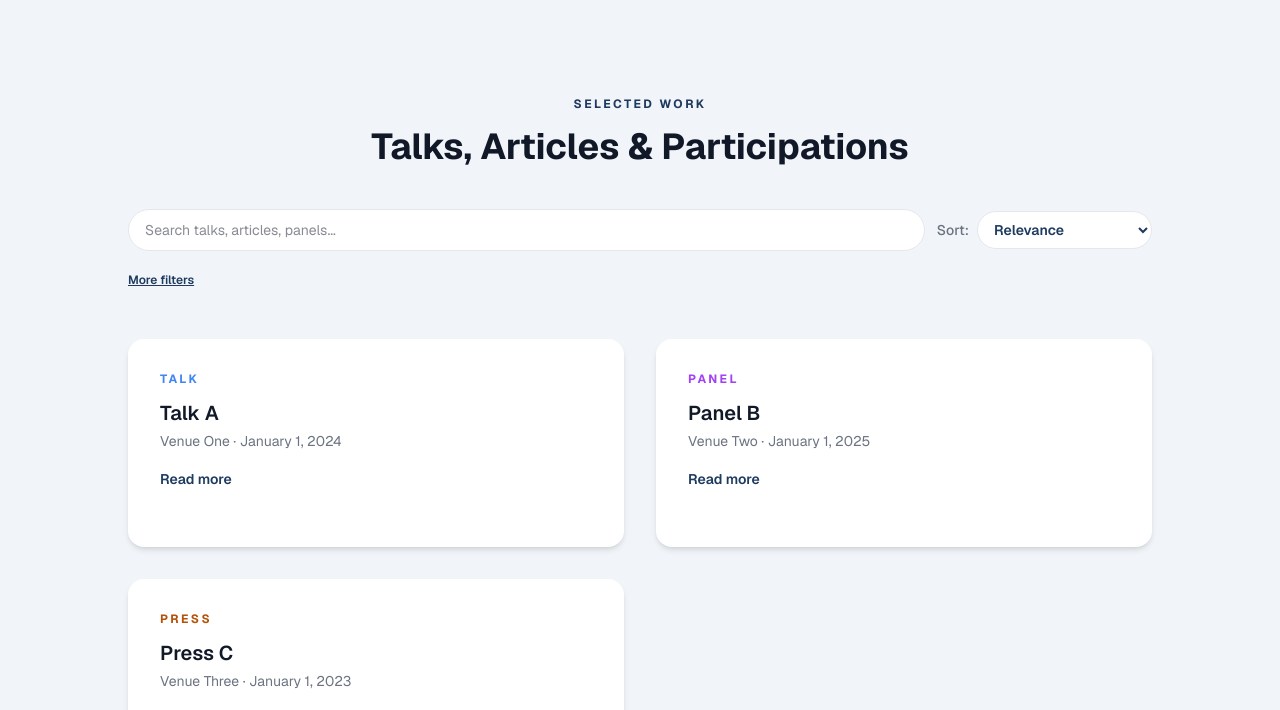
PublicationsExplorer › resets query, sort, and filters when Clear filters is clicked
Type "press" into the field with placeholder "Search talks, articles, panels...". click: (526, 230)
box: 128,209 -> 925,251
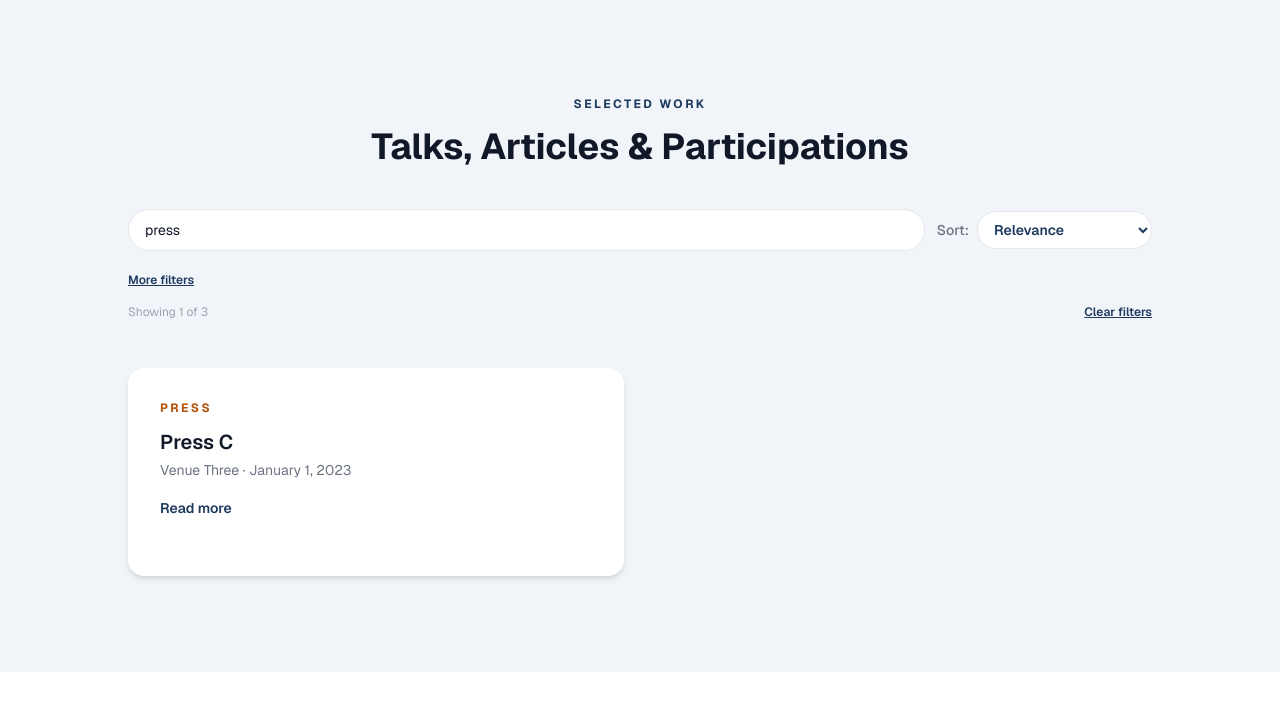
Click the button "Clear filters". click: click(1118, 312)
box: 1084,304 -> 1152,320
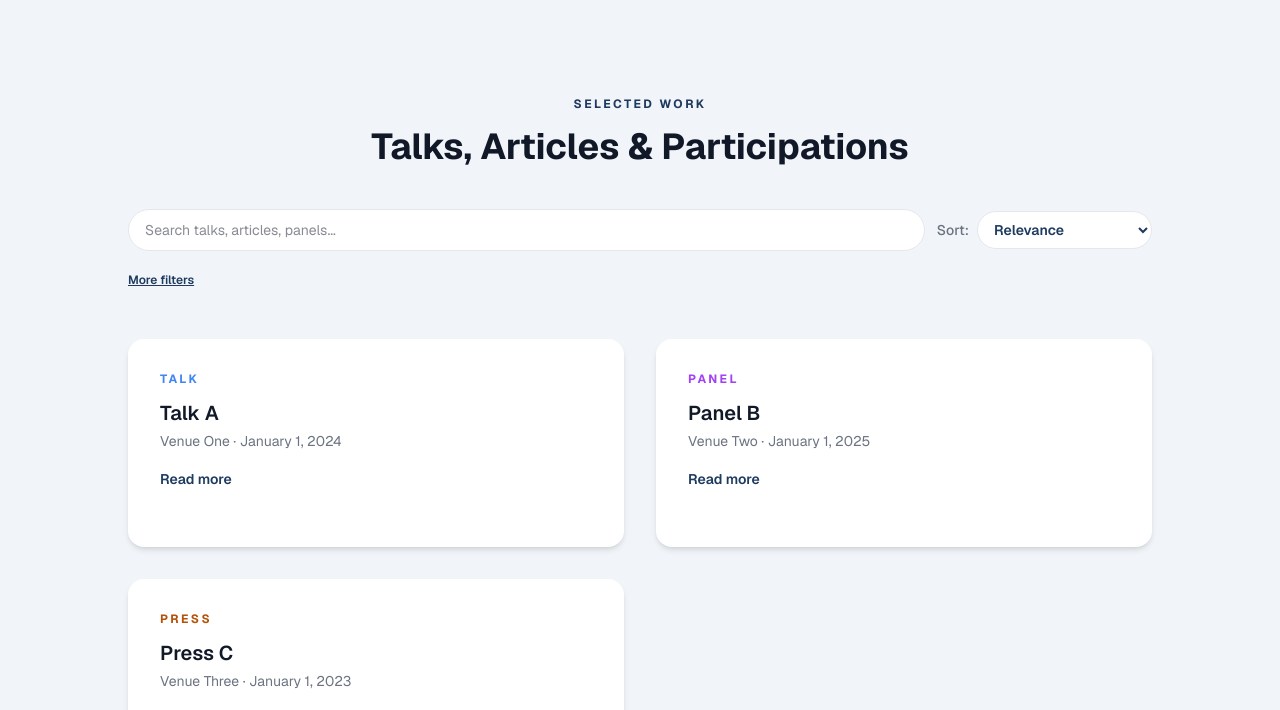
Expected: the field with placeholder "Search talks, articles, panels..." is empty, 128,209 -> 925,251
